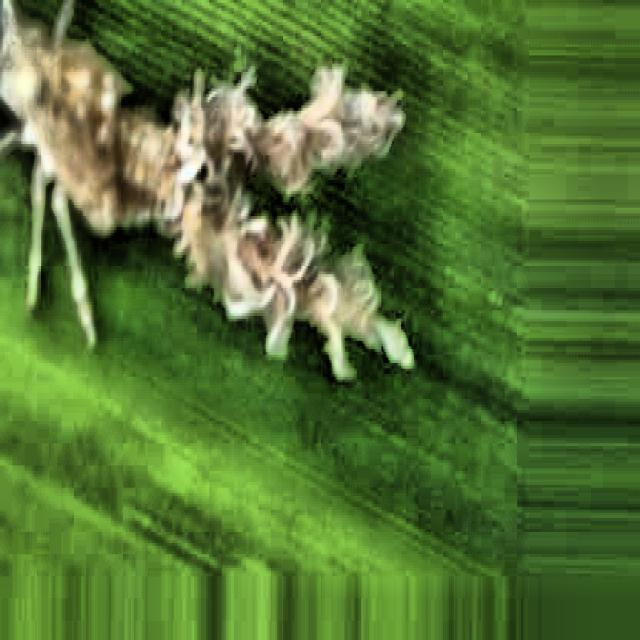Pyrilla-perpusilla: (0, 0, 414, 405)
